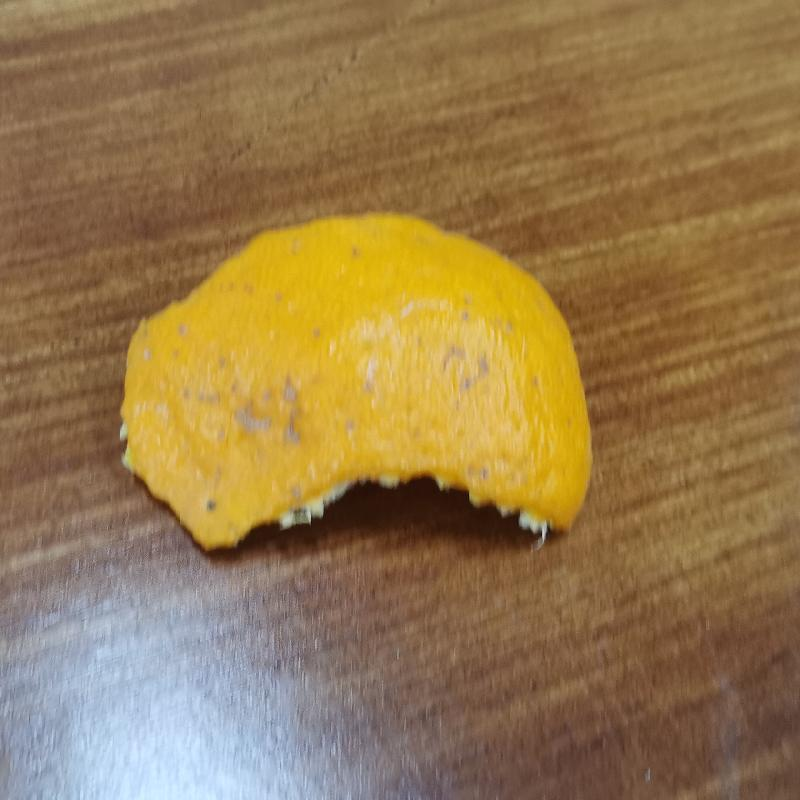orange: (108, 206, 596, 548)
